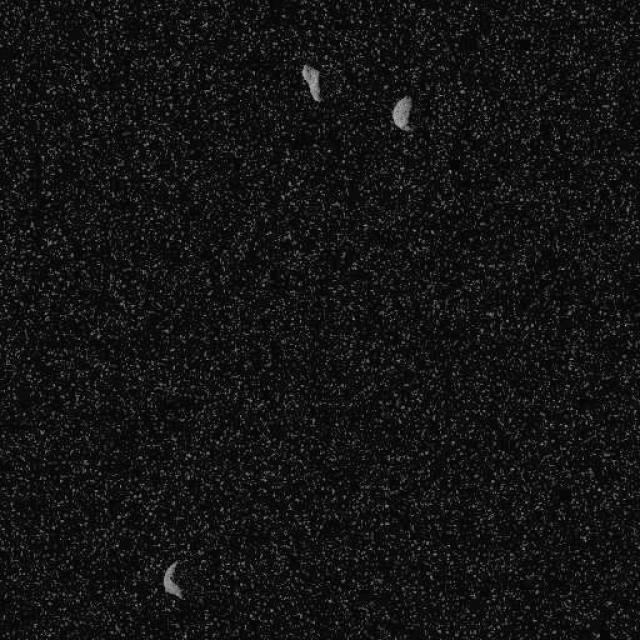D2: (161, 559, 184, 599), (300, 62, 322, 102), (390, 94, 412, 131)
